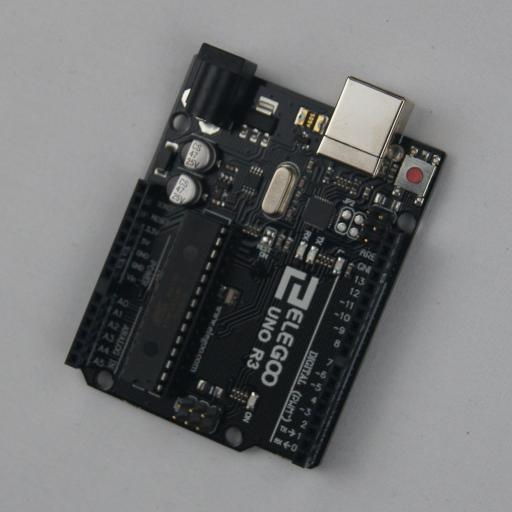Arduino Uno -Black-: (64, 42, 448, 469)
